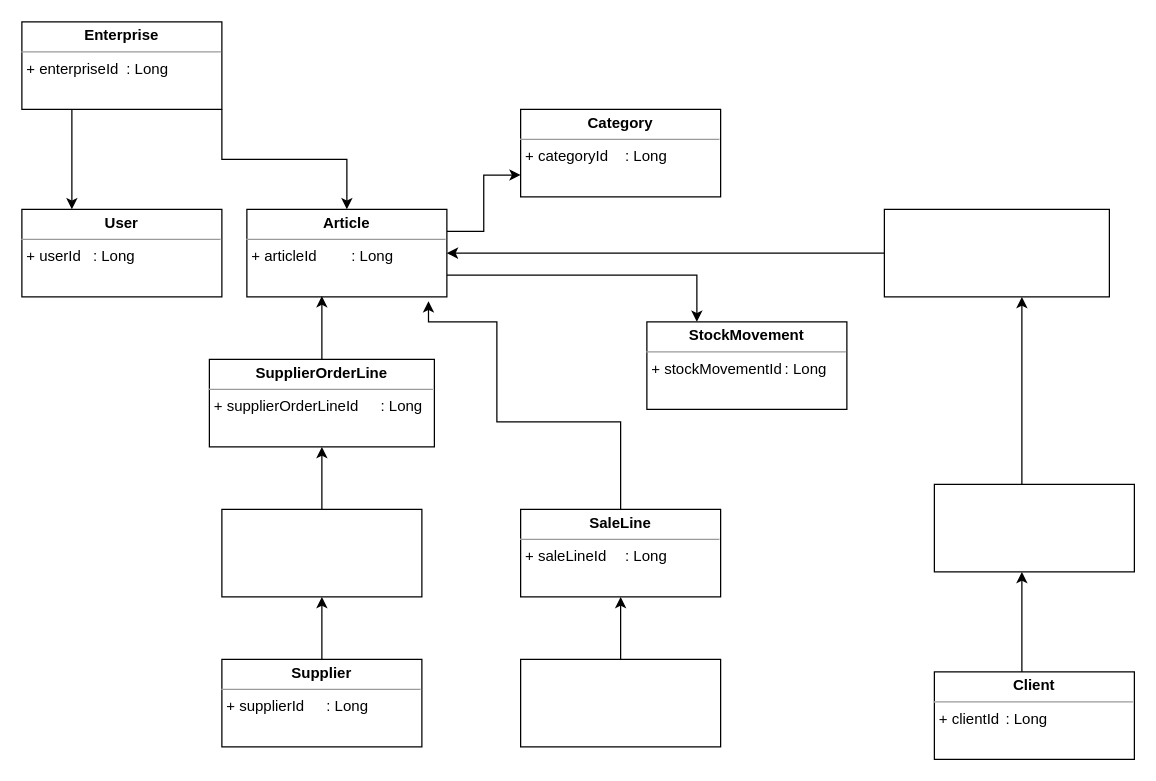
The diagram is 1156 pixels wide and 781 high, and some of its shapes have lost their labels. Each missing label, with the box of its shape:
ClientOrder + clientOrderId : Long: (933, 483, 1134, 572)
ClientOrderLine + clientOrderLineId : Long: (883, 208, 1109, 297)
Sale + saleId : Long: (519, 658, 721, 747)
SupplierOder + supplierOrderId : Long: (221, 508, 422, 597)
